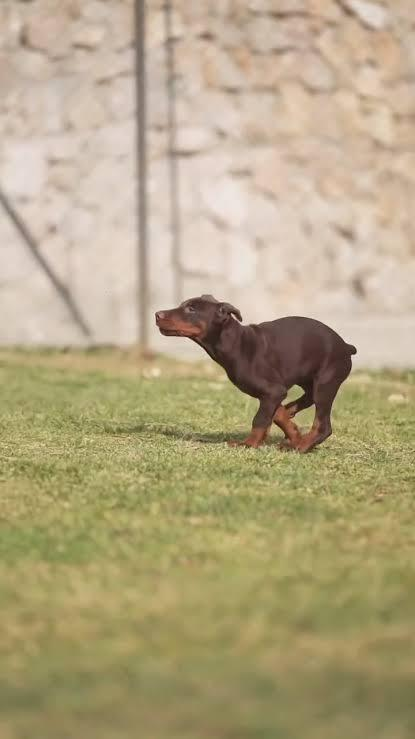adult_dog: (154, 294, 358, 454)
